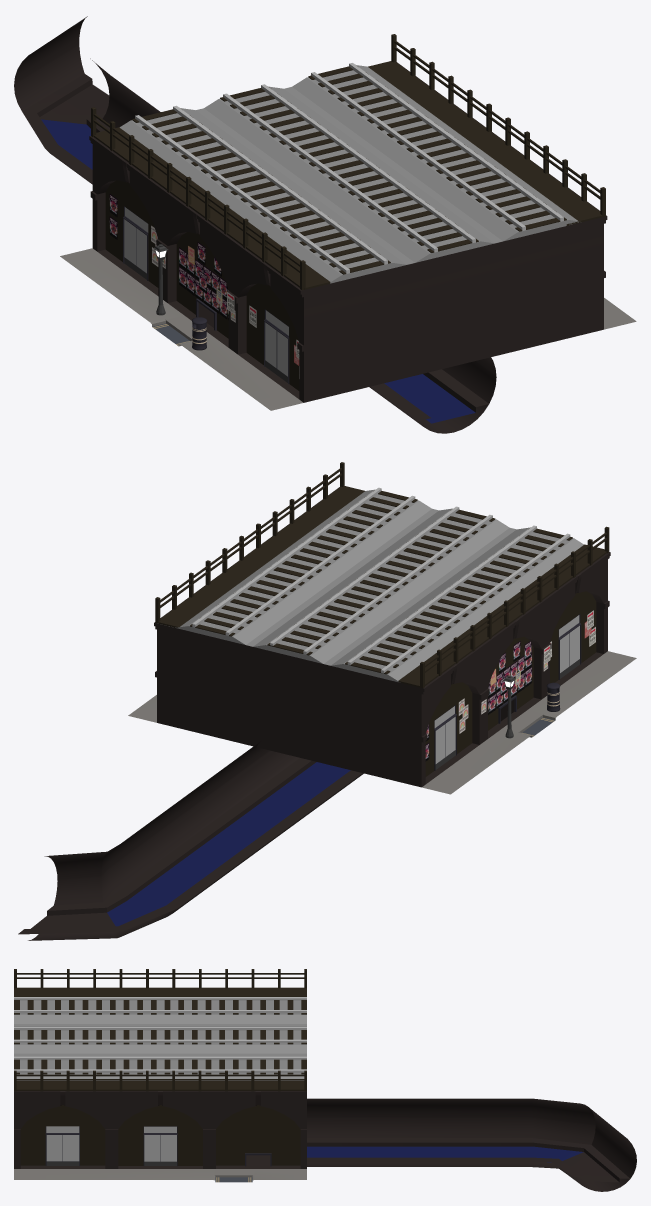
File: sewer.glb
3 renders of one model, top to bottom at view 1: azimuth 30°, elevation 25°; view 2: azimuth 150°, elevation 25°; view 3: azimuth 270°, elevation 25°, orthographic. The views are drawn at different scales.
Visible parts, largest first — view 1: Cube.048, Cube.058, Cube.054, SewerStreet, Cube.061, Cube.059, Cube.051, Cube.052, Cube.060, Cube.056, Cube.055, Untitled_Artwork.001 (+1 smaller); view 2: Cube.048, Cube.058, Cube.054, SewerStreet, Cube.061, Cube.059, Cube.052, Cube.051, Cube.056, Cube.060, Cube.055; view 3: Cube.054, Cube.058, Cube.048, Cube.050, Cube.049, Cube.053, Cube.061, Cube.059, SewerStreet, Cube.060, Cube.056.
Boxes of the visible parts, x1=… form: Cube.048: x1=89, y1=62, x2=607, y2=402; Cube.058: x1=119, y1=63, x2=578, y2=283; Cube.054: x1=14, y1=16, x2=496, y2=433; SewerStreet: x1=60, y1=248, x2=636, y2=410; Cube.061: x1=368, y1=40, x2=604, y2=225; Cube.059: x1=93, y1=114, x2=330, y2=289; Cube.051: x1=246, y1=283, x2=299, y2=390; Cube.052: x1=105, y1=180, x2=158, y2=287; Cube.060: x1=391, y1=34, x2=605, y2=216; Cube.056: x1=91, y1=107, x2=305, y2=290; Cube.055: x1=176, y1=232, x2=228, y2=338; Untitled_Artwork.001: x1=179, y1=266, x2=228, y2=320; Cube.048: x1=154, y1=487, x2=610, y2=787; Cube.058: x1=176, y1=487, x2=583, y2=682; Cube.054: x1=18, y1=699, x2=514, y2=940; SewerStreet: x1=128, y1=651, x2=636, y2=794; Cube.061: x1=157, y1=468, x2=364, y2=627; Cube.059: x1=398, y1=532, x2=606, y2=687; Cube.052: x1=425, y1=682, x2=472, y2=776; Cube.051: x1=550, y1=591, x2=596, y2=682; Cube.056: x1=420, y1=526, x2=609, y2=688; Cube.060: x1=155, y1=462, x2=344, y2=623; Cube.055: x1=488, y1=636, x2=533, y2=730; Cube.054: x1=246, y1=1098, x2=636, y2=1191; Cube.058: x1=14, y1=997, x2=306, y2=1080; Cube.048: x1=14, y1=1024, x2=306, y2=1168; Cube.050: x1=20, y1=1105, x2=105, y2=1165; Cube.049: x1=118, y1=1105, x2=202, y2=1166; Cube.053: x1=216, y1=1105, x2=300, y2=1166; Cube.061: x1=16, y1=1074, x2=304, y2=1090; Cube.059: x1=14, y1=973, x2=306, y2=996; SewerStreet: x1=14, y1=1169, x2=306, y2=1182; Cube.060: x1=14, y1=1070, x2=306, y2=1091; Cube.056: x1=14, y1=969, x2=306, y2=988.
Size of the model in its own units: 20 by 11 by 42.5.
Materials: 21 (7 with a texture image).
